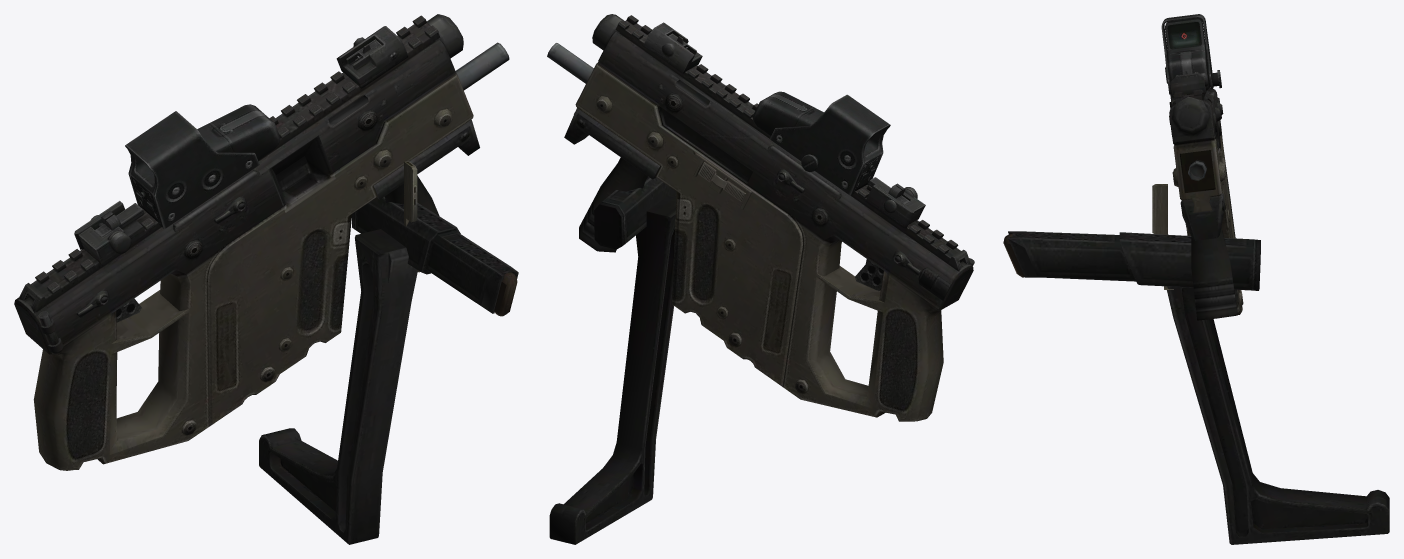
The model's file is KrissSuperV_Dual_7th_Anniversary.obj.
The picture shows the model from 3 angles, left to right: view 1: azimuth 30°, elevation 25°; view 2: azimuth 150°, elevation 25°; view 3: azimuth 270°, elevation 25°; orthographic projection. The views are drawn at different scales.
Parts seen in each view (by area): view 1: Model_Kriss_Super_V, Model_ButtPlate, Model_DotSight, Model_Magazine, Model_Handle01; view 2: Model_Kriss_Super_V, Model_ButtPlate, Model_DotSight, Model_Magazine; view 3: Model_ButtPlate, Model_Kriss_Super_V, Model_Magazine, Model_DotSight, Model_Handle01.
Boxes of the visible parts, box(x1,y1,x2,y2) form: Model_Kriss_Super_V: box(14, 14, 509, 470); Model_ButtPlate: box(259, 229, 417, 544); Model_DotSight: box(125, 104, 280, 229); Model_Magazine: box(351, 196, 518, 316); Model_Handle01: box(404, 161, 417, 226); Model_Kriss_Super_V: box(547, 14, 974, 421); Model_ButtPlate: box(549, 195, 676, 544); Model_DotSight: box(752, 91, 890, 195); Model_Magazine: box(594, 176, 676, 249); Model_ButtPlate: box(1167, 286, 1389, 544); Model_Kriss_Super_V: box(1165, 67, 1243, 320); Model_Magazine: box(1003, 231, 1260, 290); Model_DotSight: box(1161, 14, 1221, 94); Model_Handle01: box(1152, 184, 1167, 234).
Bounding box in the file's own units: 0.3508 × 0.3664 × 0.275.
Materials: 2 (2 with a texture image).
